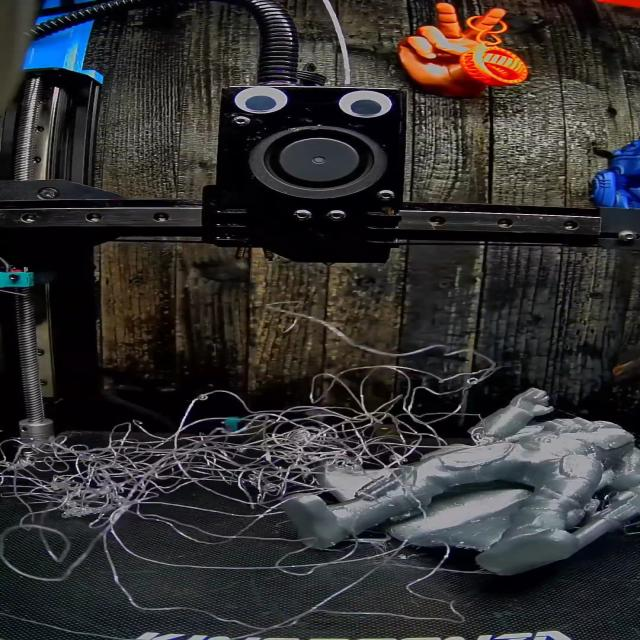spaghetti: (3, 366, 466, 566)
